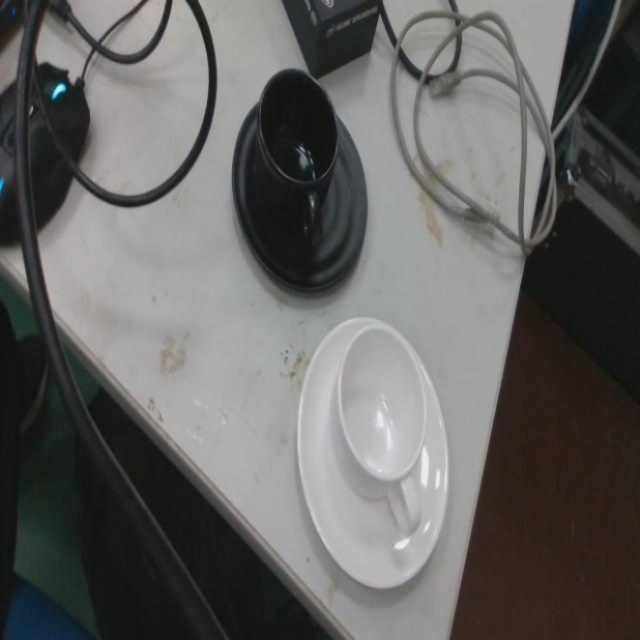black: (228, 66, 369, 298)
white: (294, 312, 451, 596)
